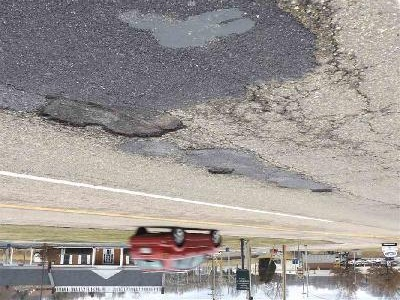pothole: (32, 93, 187, 139), (206, 164, 235, 176), (309, 186, 334, 195)
